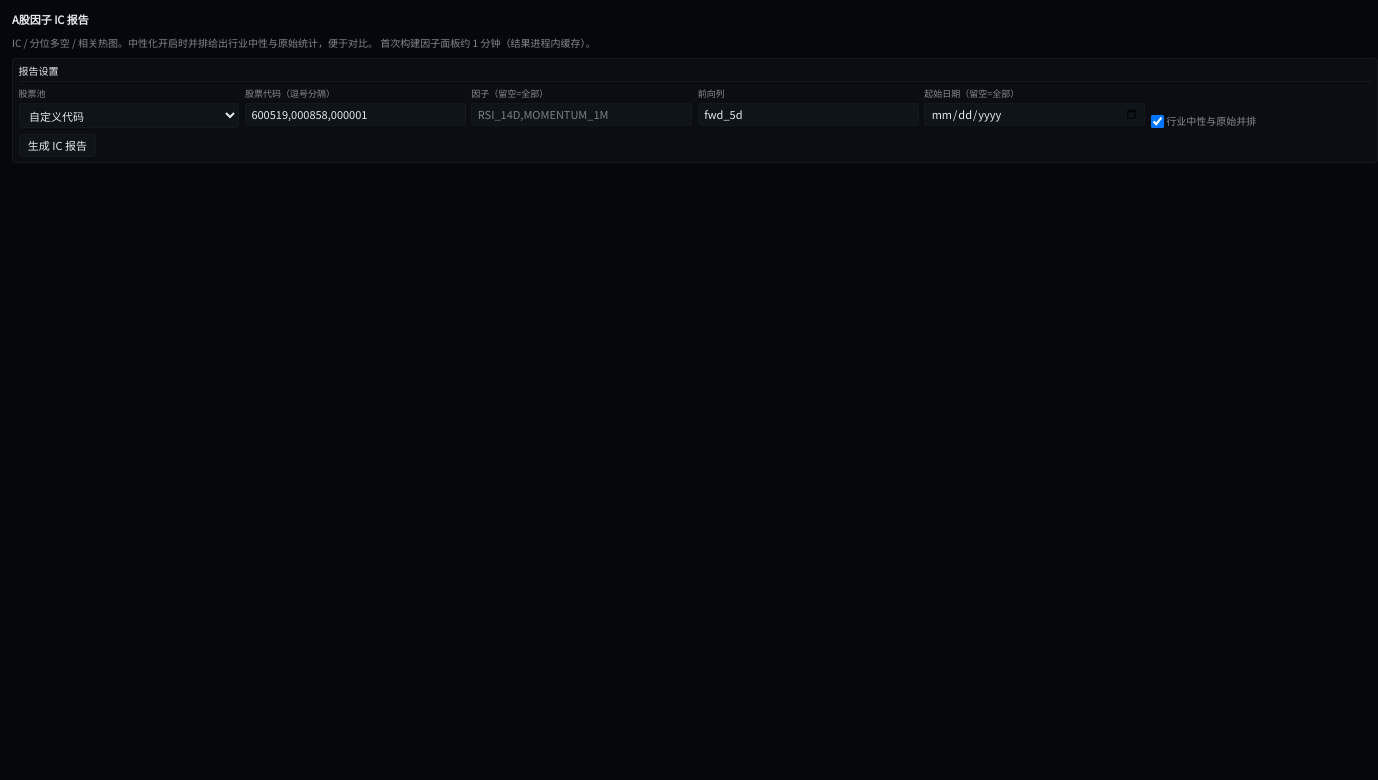
Test: AshareFactorReportPage › 空数据降级:IC 全 NaN 时显示原因,时序区提示无数据而非空图
Click the button "生成 IC 报告".
click(57, 145)  # box [18,134,96,157]
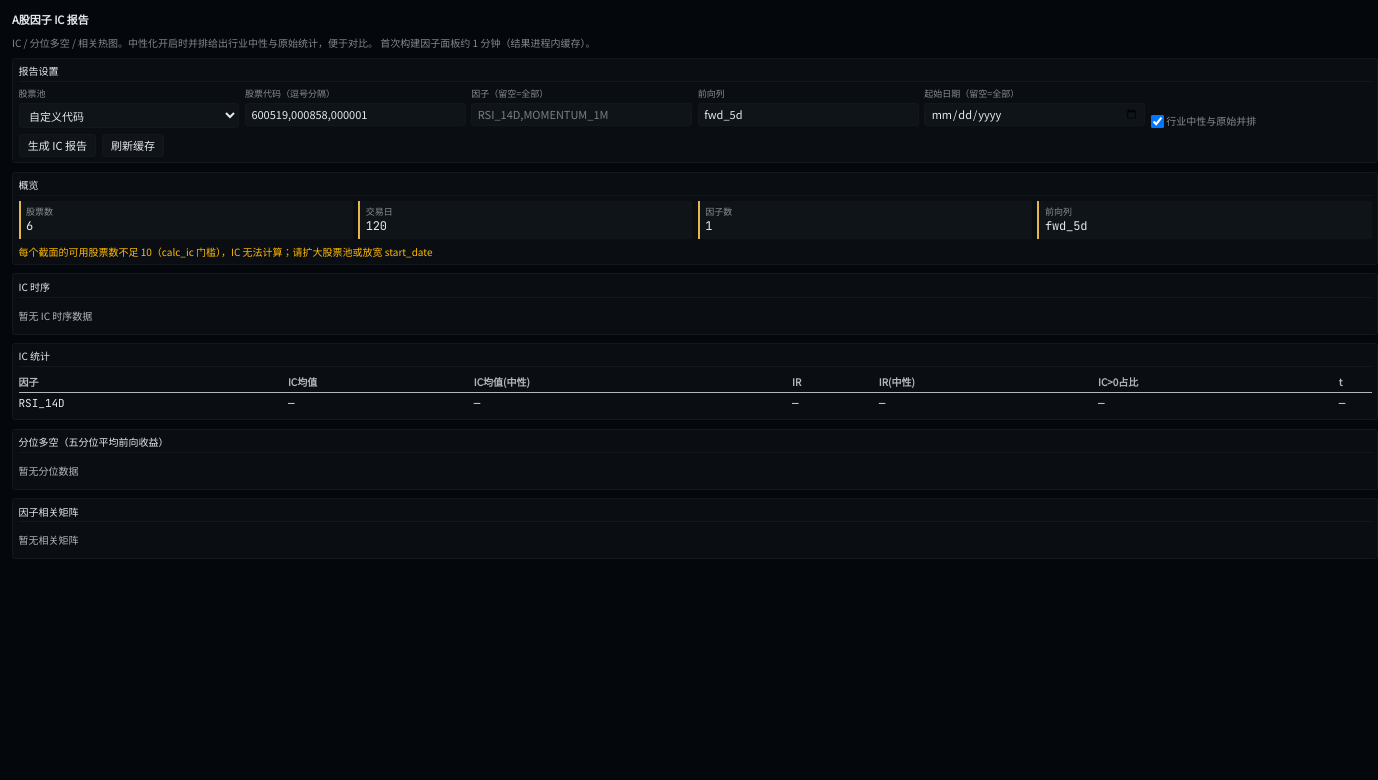
expect the text "每个截面的可用股票数不足 10（calc_ic 门槛），IC 无法计算；请扩大股票池或放宽 start_date" is shown: met, box [18,244,432,258]
expect the text "暂无 IC 时序数据" is shown: met, box [18,308,92,322]
expect the text "暂无分位数据" is shown: met, box [18,463,78,478]
